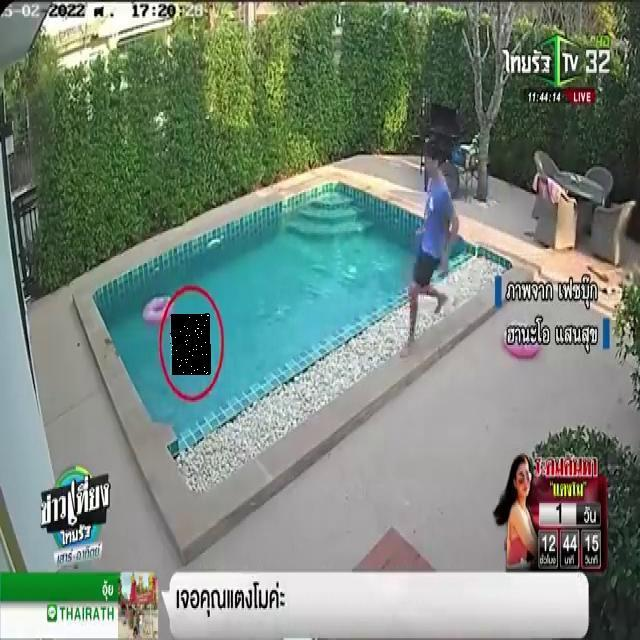Out of Water: (170, 314, 210, 375)
